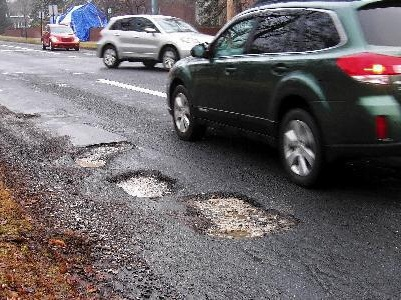pothole: (177, 187, 299, 242), (108, 167, 180, 201), (68, 138, 135, 170)
